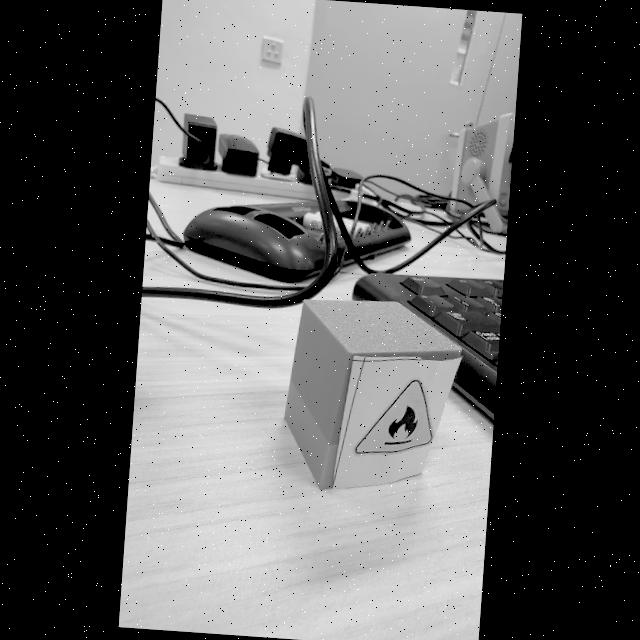Fire: (355, 380, 433, 454)
